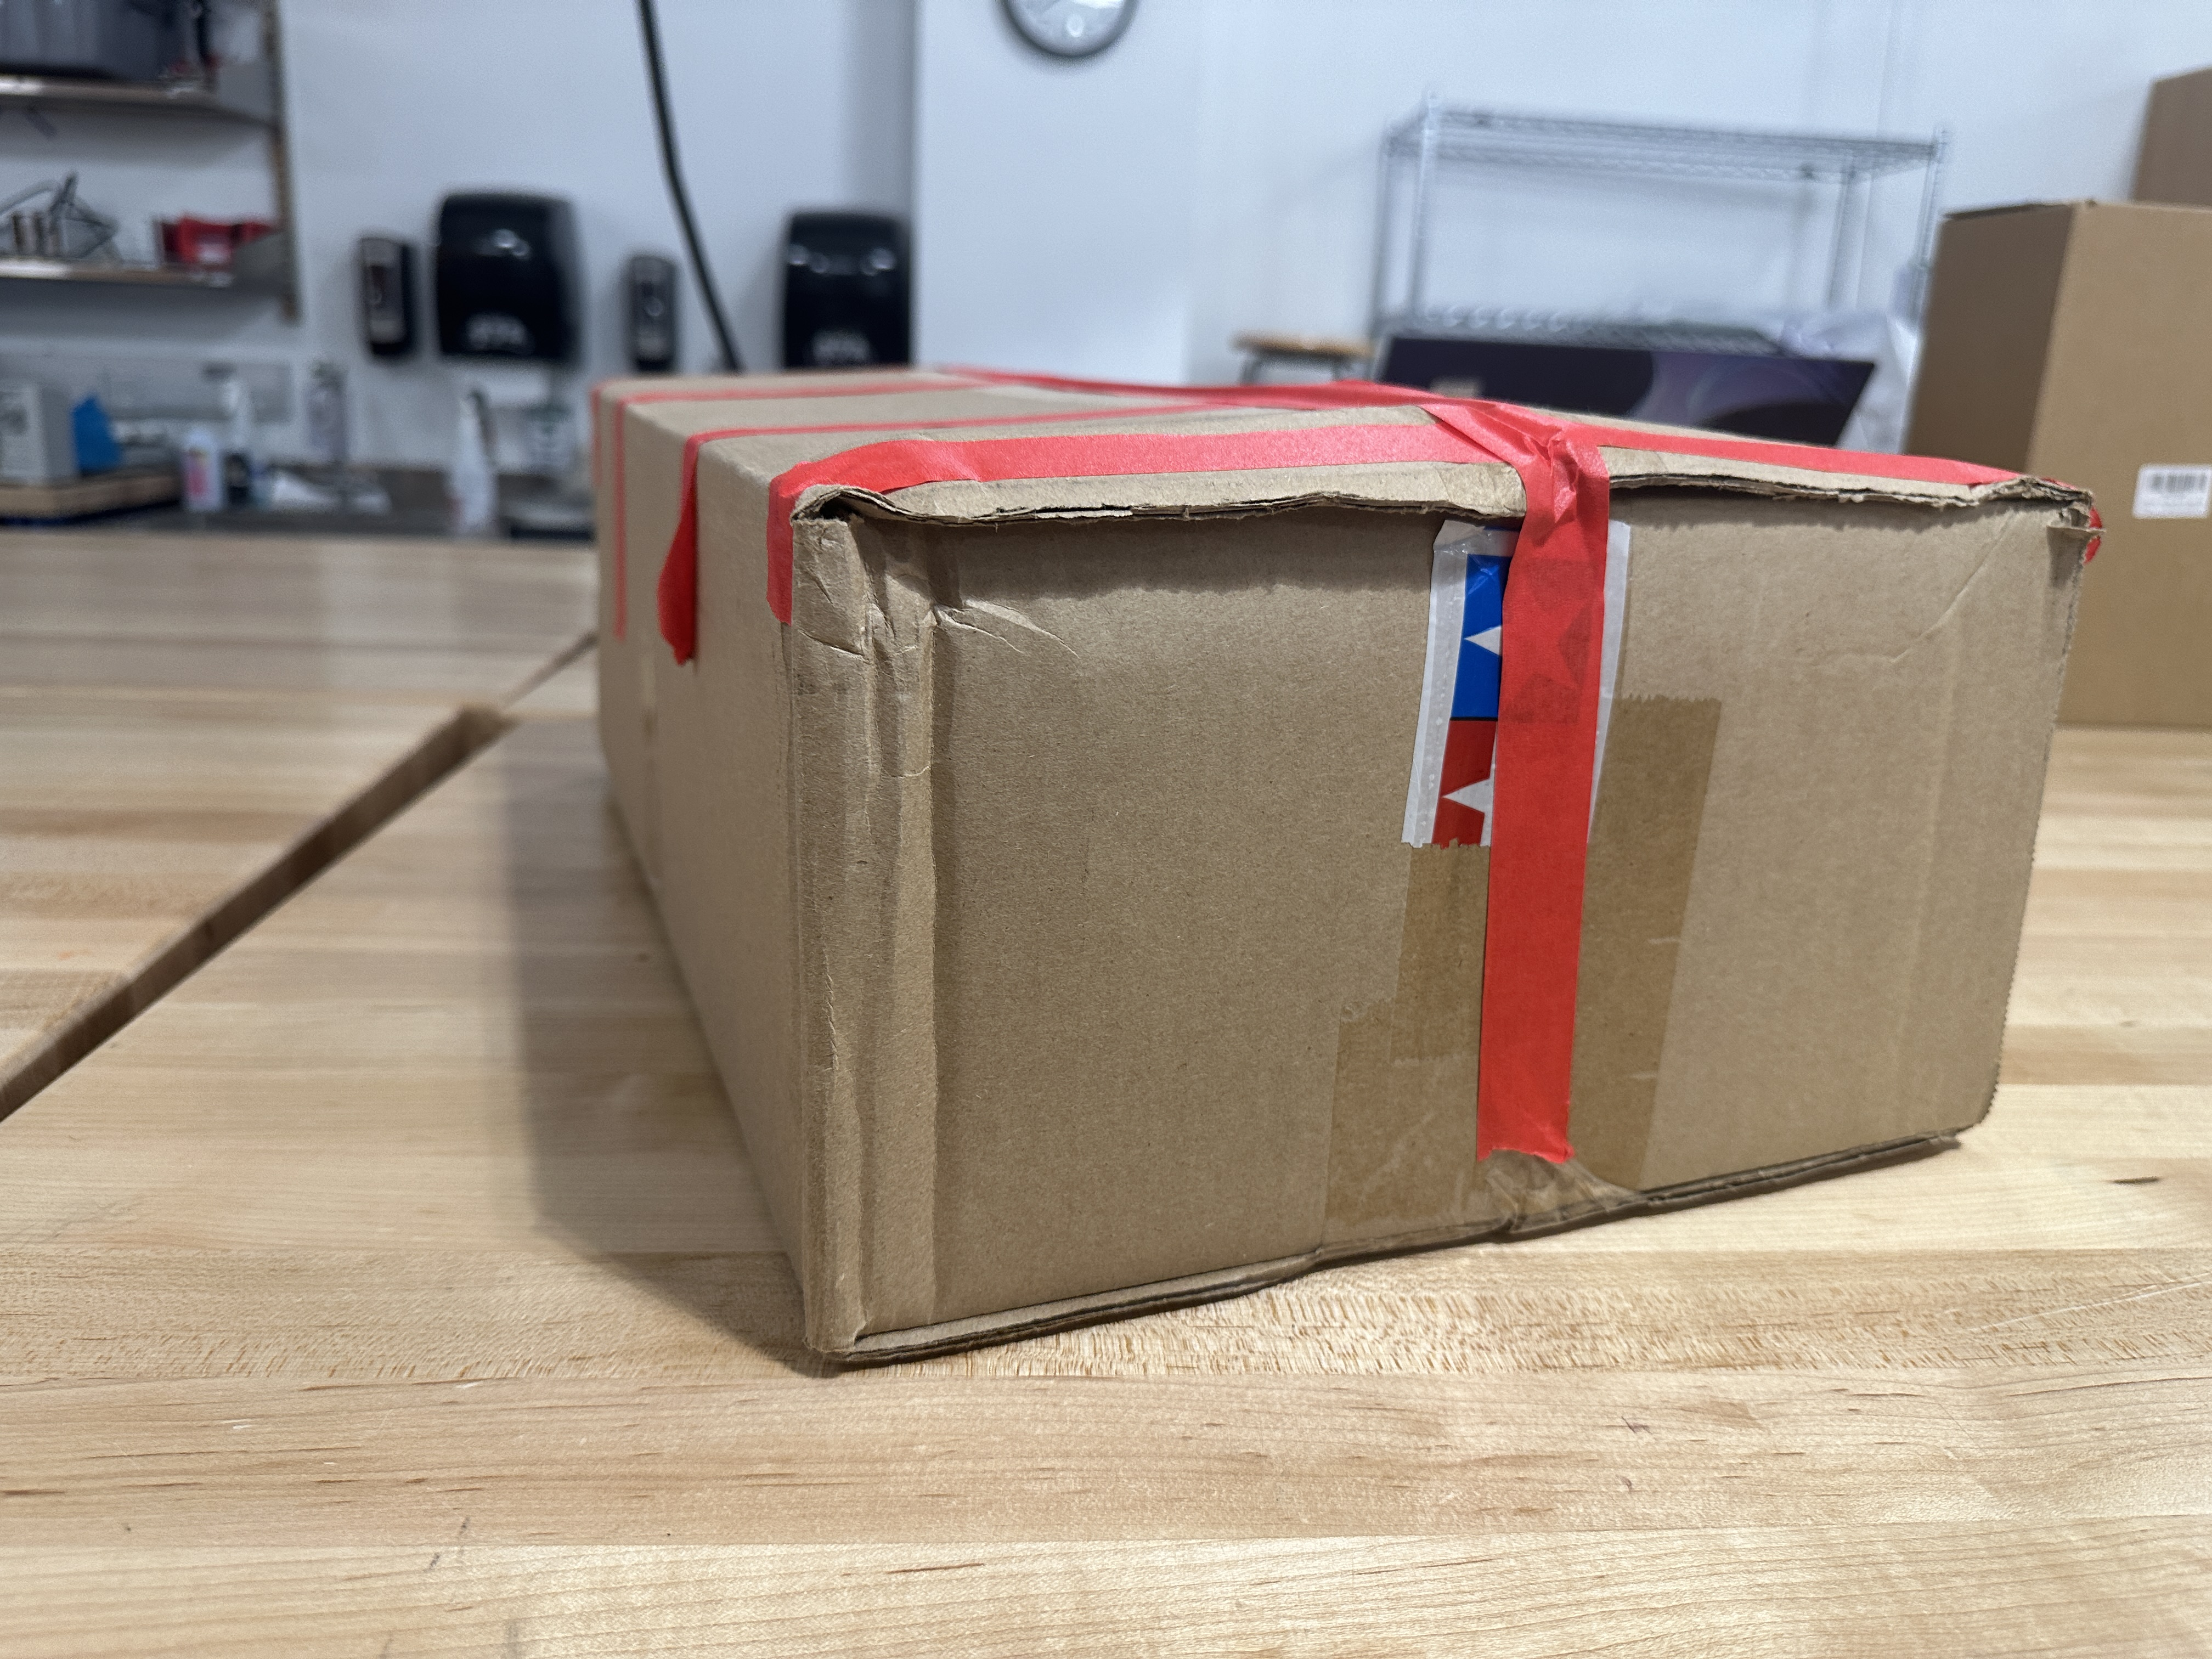Box_Obstacle: (575, 352, 2107, 1392)
